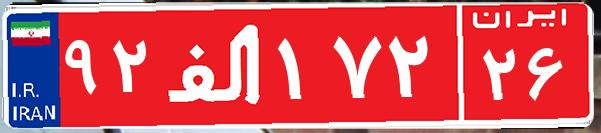1: (273, 28, 330, 110)
2: (385, 28, 445, 110), (475, 38, 525, 113), (110, 28, 158, 105)
6: (525, 38, 570, 115)
7: (330, 28, 385, 110)
9: (57, 26, 110, 107)
الف: (158, 15, 273, 115)
